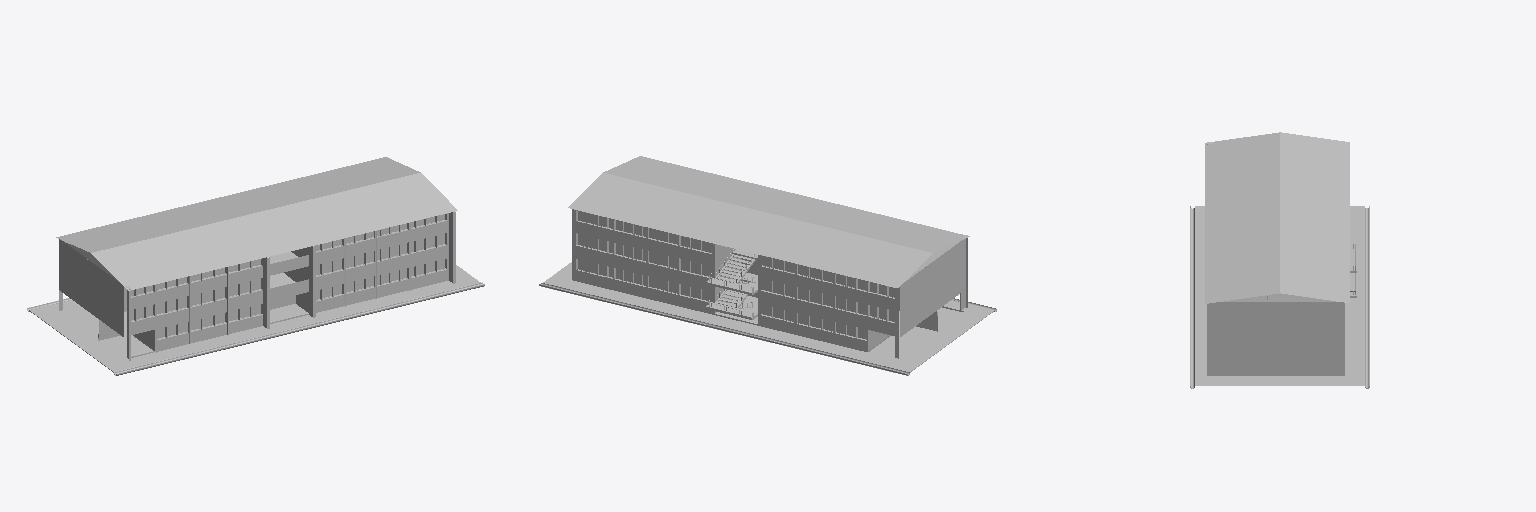
File: cciBuildingFinalobj.obj
The picture shows the model from 3 angles: view 1: azimuth 30°, elevation 25°; view 2: azimuth 150°, elevation 25°; view 3: azimuth 270°, elevation 25°; orthographic projection.
Visible parts, largest first — view 1: Plane.2; view 2: Plane.2; view 3: Plane.2.
Part boxes in pixels (x1,y1,x2,y2): Plane.2: (27, 157, 484, 375); Plane.2: (539, 156, 996, 375); Plane.2: (1190, 132, 1369, 388).
Size of the model in its own units: 515 by 115 by 218.